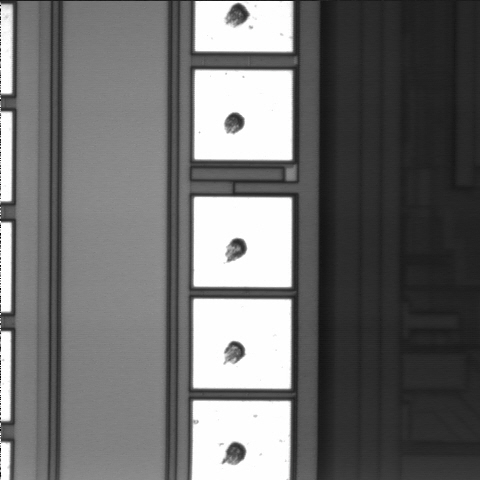pad: (194, 70, 292, 160), (194, 197, 292, 287), (193, 299, 291, 389)
